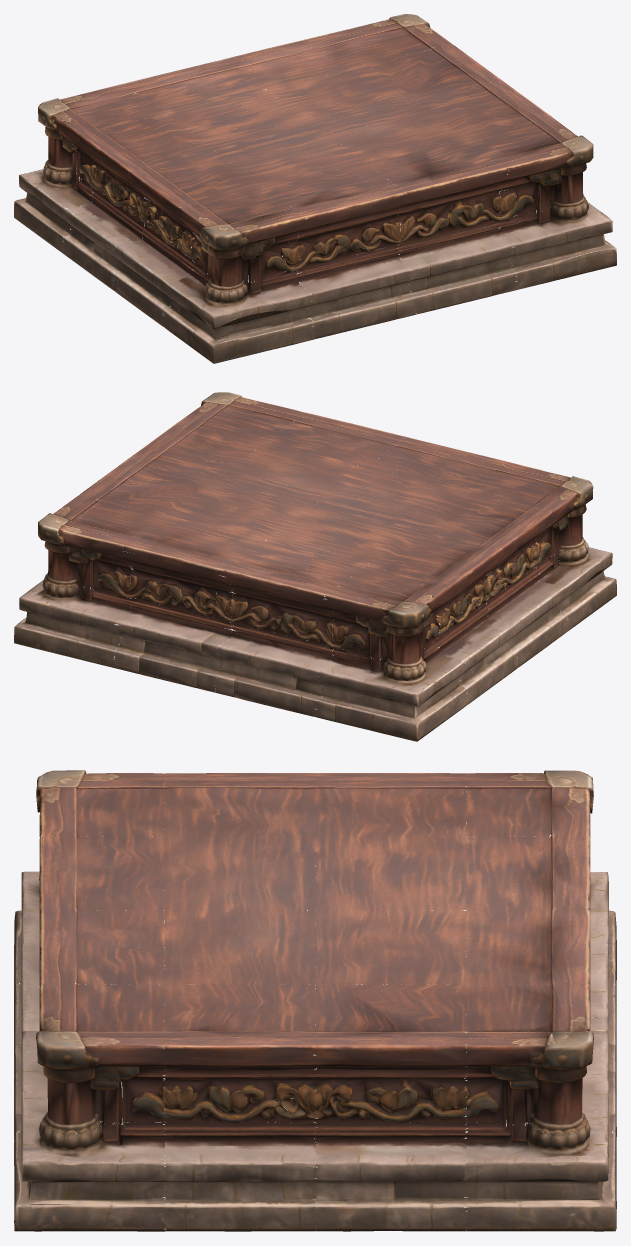
File: hi3d-platform.glb
3 renders of one model, top to bottom at view 1: azimuth 30°, elevation 25°; view 2: azimuth 150°, elevation 25°; view 3: azimuth 270°, elevation 25°, orthographic. The views are drawn at different scales.
Parts seen in each view (by area): view 1: platform; view 2: platform; view 3: platform.
Part boxes in pixels (left/top/right/bottom): platform: left=14, top=14, right=616, bottom=363; platform: left=14, top=392, right=616, bottom=741; platform: left=14, top=770, right=616, bottom=1231.
Bounding box in the file's own units: 1.99 × 0.5508 × 1.71.
1 material, 1 textured.
